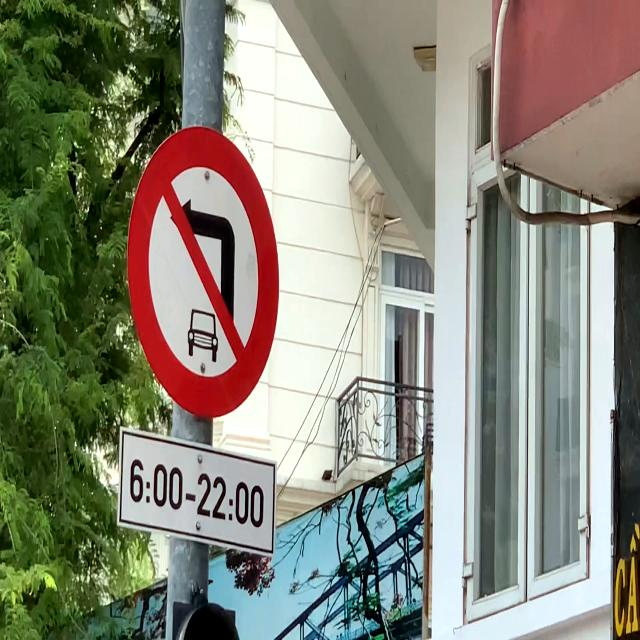P.103c: (126, 124, 281, 421)
